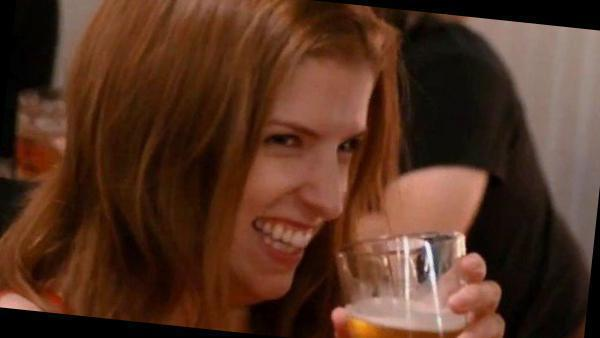Drunk: (236, 43, 371, 298)
